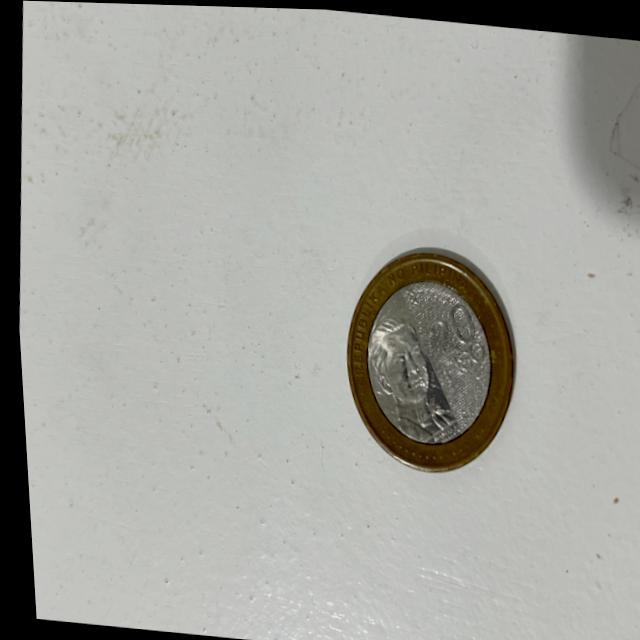20_New_Front: (417, 294, 483, 383)
